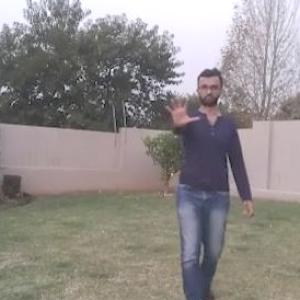follow_hand: (162, 86, 199, 130)
